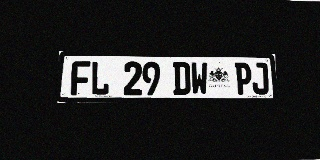2: (124, 61, 142, 95)
9: (142, 61, 160, 95)
D: (173, 62, 190, 95)
F: (71, 61, 90, 95)
J: (251, 62, 269, 95)
L: (90, 61, 109, 95)
P: (235, 62, 252, 95)
W: (190, 62, 208, 95)
